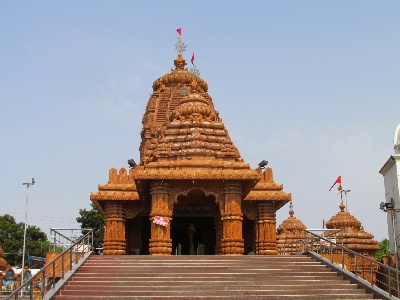amalaka: (149, 69, 222, 90)
mandapa: (126, 166, 268, 258)
